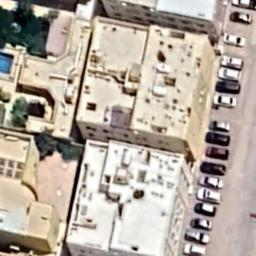SUV: (219, 55, 243, 69), (206, 146, 230, 160), (218, 66, 240, 80)
pickup: (231, 0, 256, 10)
sedan: (196, 187, 222, 204), (222, 32, 246, 48), (205, 132, 231, 146), (194, 202, 218, 217), (212, 94, 236, 108), (230, 11, 254, 24), (198, 176, 224, 188), (190, 217, 214, 230), (209, 120, 230, 132)
unknown: (200, 162, 226, 176)
van: (184, 228, 210, 244), (216, 80, 242, 94), (184, 244, 206, 256)
